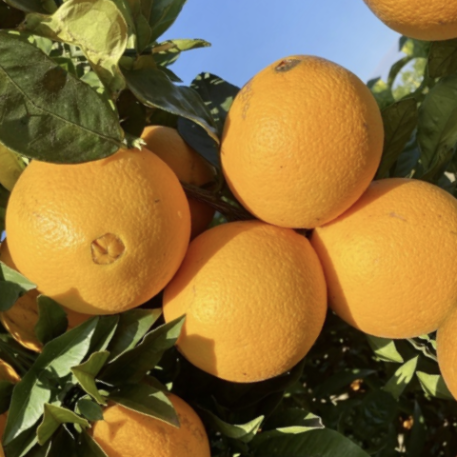orange: (0, 77, 238, 357), (115, 173, 362, 424), (188, 11, 426, 258), (256, 117, 457, 382)
